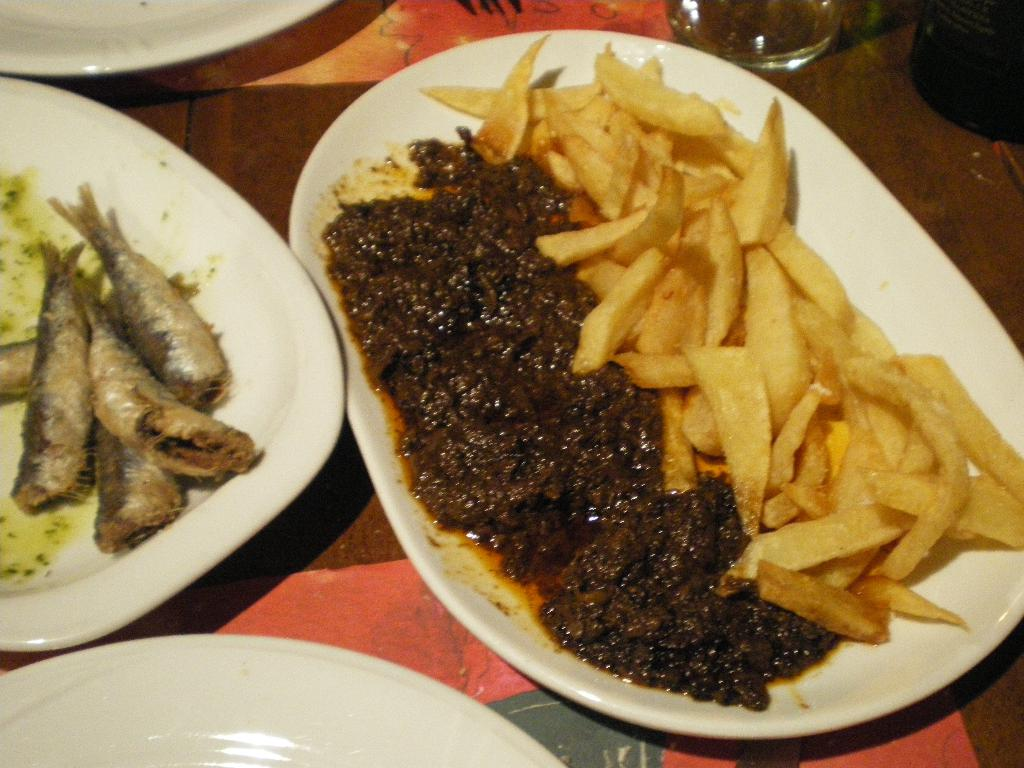French fries: (475, 94, 967, 628)
